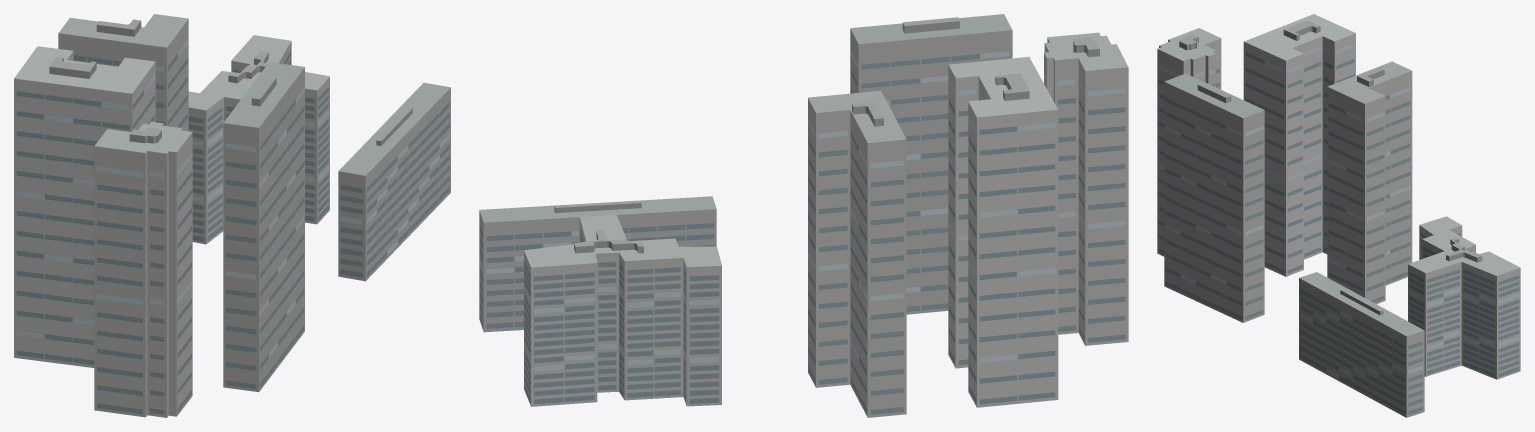
Rendered from apt-a15288808.glb.
The picture shows the model from 3 angles, left to right: view 1: azimuth 30°, elevation 25°; view 2: azimuth 150°, elevation 25°; view 3: azimuth 270°, elevation 25°; orthographic projection. The views are drawn at different scales.
Parts seen in each view (by area): view 1: apt-a15288808; view 2: apt-a15288808; view 3: apt-a15288808.
Boxes of the visible parts, x1,y1,x2,y2 form: apt-a15288808: (14, 14, 450, 417); apt-a15288808: (479, 14, 1128, 417); apt-a15288808: (1157, 14, 1520, 417).
Bounding box in the file's own units: 174 × 96 × 143.
